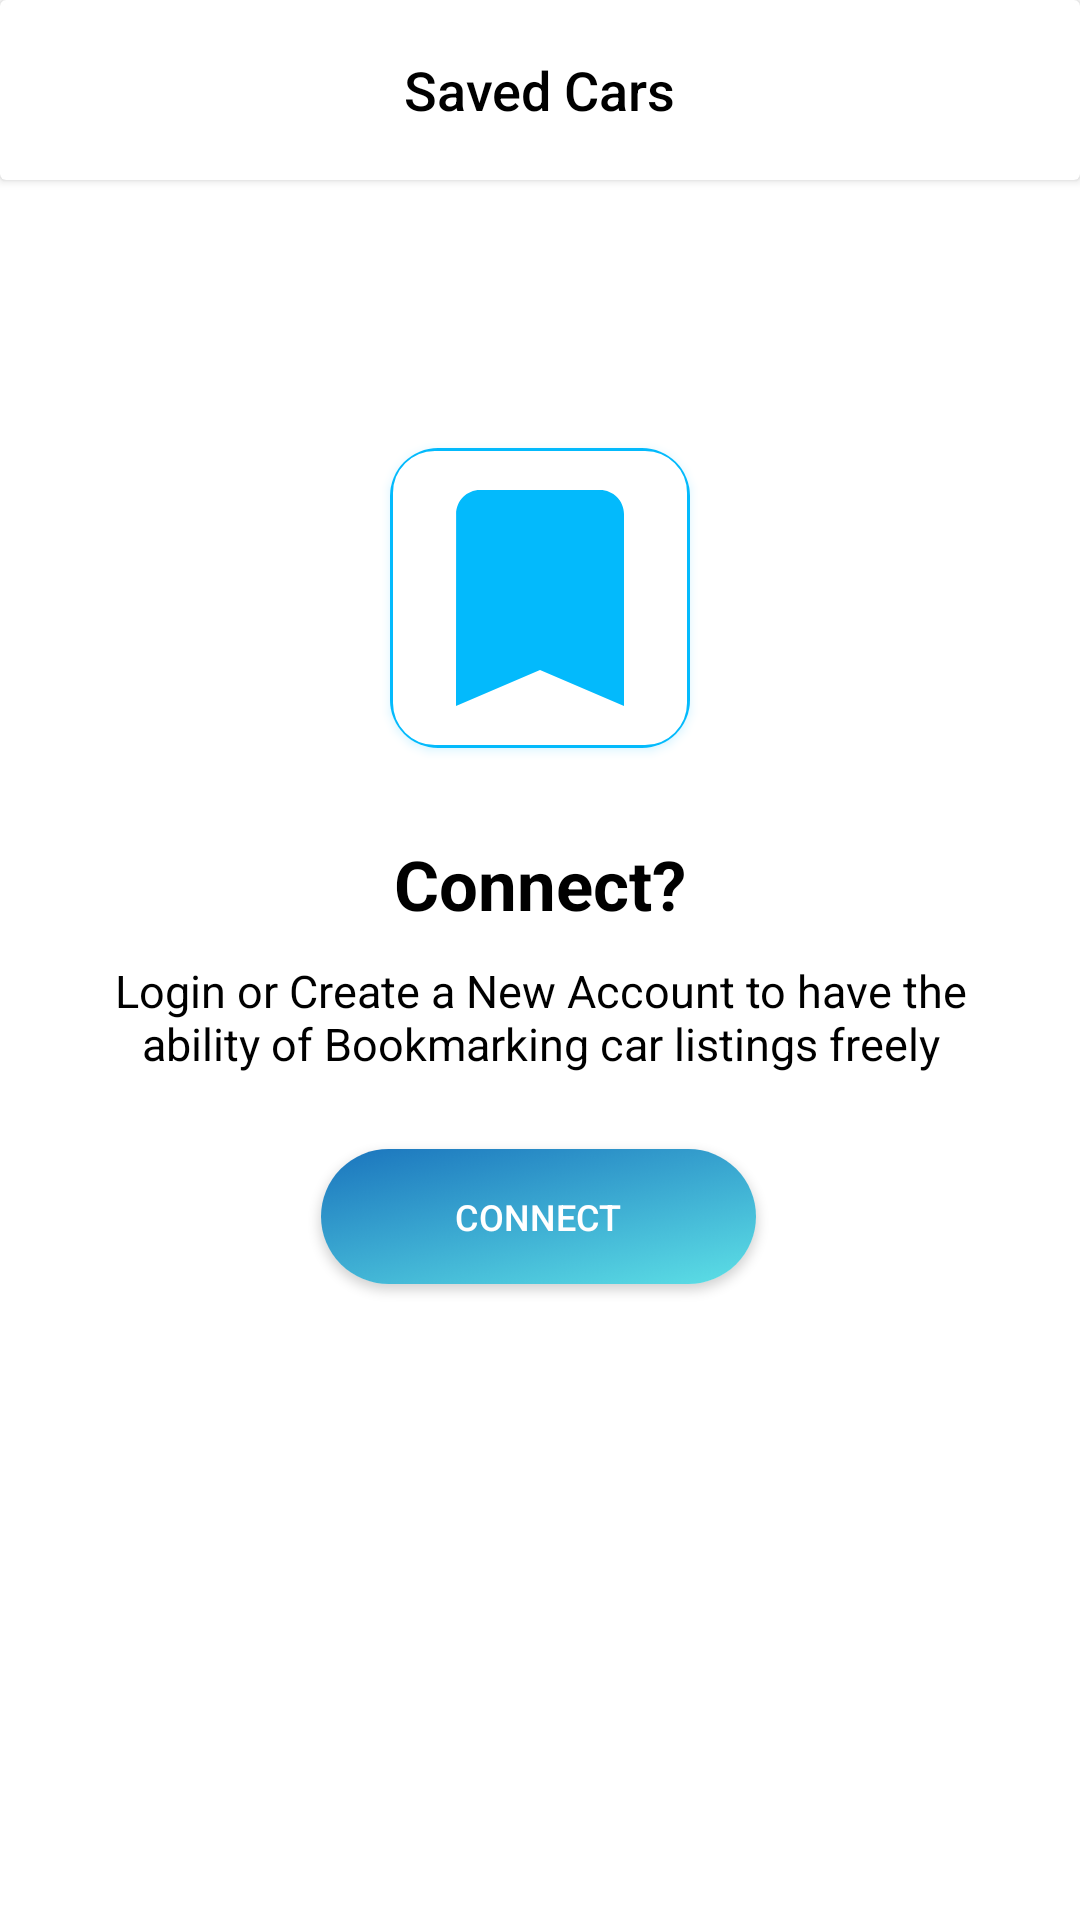

Named icons in this screenshot (1080w x 1920h) and their centers, (x=x, y=y):
bookmark: (x=540, y=598)
